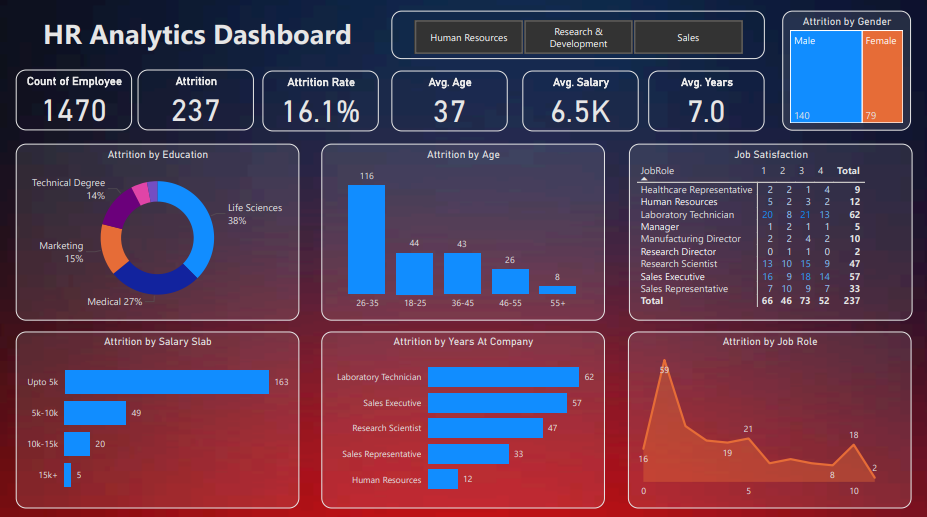

The page's visual inventory and layout, read from the dashboard file:
{"tool":"powerbi","page":{"name":"Page 1","canvas":[1280,720],"ordinal":0},"visuals":[{"type":"card","title":"Count of Employee","fields":{"Values":["CountNonNull(HR_Analytics.EmpID)"]},"box":[27.2,101.5,158.7,82.9],"z":0},{"type":"card","title":"Attrition","fields":{"Values":["Sum(HR_Analytics.AttritionCount)"]},"box":[194.5,101.5,158.7,82.9],"z":1000},{"type":"card","title":"Attrition Rate","fields":{"Values":["HR_Analytics.AttritionRate"]},"box":[366.1,103,158.7,82.9],"z":2000},{"type":"card","title":"Avg. Age","fields":{"Values":["Avg(HR_Analytics.Age)"]},"box":[542,103,158.7,82.9],"z":3000},{"type":"card","title":"Avg. Salary","fields":{"Values":["Avg(HR_Analytics.MonthlyIncome)"]},"box":[720.8,103,158.7,82.9],"z":4000},{"type":"card","title":"Avg. Years","fields":{"Values":["Avg(HR_Analytics.YearsAtCompany)"]},"box":[893.9,103,158.7,82.9],"z":5000},{"type":"donutChart","title":"Attrition by Education","fields":{"Y":["Sum(HR_Analytics.AttritionCount)"],"Category":["HR_Analytics.EducationField"]},"box":[27.2,203.1,387.6,241.7],"z":6000},{"type":"columnChart","title":"Attrition by Age","fields":{"Category":["HR_Analytics.AgeGroup"],"Y":["Sum(HR_Analytics.AttritionCount)"]},"box":[446.2,203.1,387.6,241.7],"z":7000},{"type":"pivotTable","title":"Job Satisfaction","fields":{"Rows":["HR_Analytics.JobRole"],"Columns":["HR_Analytics.JobSatisfaction"],"Values":["Sum(HR_Analytics.AttritionCount)"]},"box":[866.7,203.1,387.6,241.7],"z":8000},{"type":"clusteredBarChart","title":"Attrition by Salary Slab","fields":{"Y":["Sum(HR_Analytics.AttritionCount)"],"Category":["HR_Analytics.SalarySlab"]},"box":[27.2,460.5,387.6,241.7],"z":9000},{"type":"clusteredBarChart","title":"Attrition by Years At Company","fields":{"Y":["Sum(HR_Analytics.AttritionCount)"],"Category":["HR_Analytics.JobRole"]},"box":[446.2,460.5,387.6,241.7],"z":10000},{"type":"areaChart","title":"Attrition by Job Role","fields":{"Y":["Sum(HR_Analytics.AttritionCount)"],"Category":["HR_Analytics.YearsAtCompany"]},"box":[865.3,460.5,387.6,241.7],"z":11000},{"type":"treemap","title":"Attrition by Gender","fields":{"Values":["Sum(HR_Analytics.AttritionCount)"],"Group":["HR_Analytics.Gender"]},"box":[1076.9,21.5,175.9,164.5],"z":12000},{"type":"slicer","fields":{"Values":["HR_Analytics.Department"]},"box":[542,21.5,510.6,65.8],"z":13000},{"type":"textbox","box":[27.2,21.5,497.7,65.8],"z":14000}]}

Visuals, with their boxes in screenshot pixels (x1, y1, x2, y2), scaled from the page's 1280x720 canvas onto the 927x517 screenshot:
"Count of Employee" card: l=20, t=73, r=135, b=132
"Attrition" card: l=141, t=73, r=256, b=132
"Attrition Rate" card: l=265, t=74, r=380, b=133
"Avg. Age" card: l=393, t=74, r=507, b=133
"Avg. Salary" card: l=522, t=74, r=637, b=133
"Avg. Years" card: l=647, t=74, r=762, b=133
"Attrition by Education" donutChart: l=20, t=146, r=300, b=319
"Attrition by Age" columnChart: l=323, t=146, r=604, b=319
"Job Satisfaction" pivotTable: l=628, t=146, r=908, b=319
"Attrition by Salary Slab" clusteredBarChart: l=20, t=331, r=300, b=504
"Attrition by Years At Company" clusteredBarChart: l=323, t=331, r=604, b=504
"Attrition by Job Role" areaChart: l=627, t=331, r=907, b=504
"Attrition by Gender" treemap: l=780, t=15, r=907, b=134
slicer - HR_Analytics.Department: l=393, t=15, r=762, b=63
textbox: l=20, t=15, r=380, b=63
